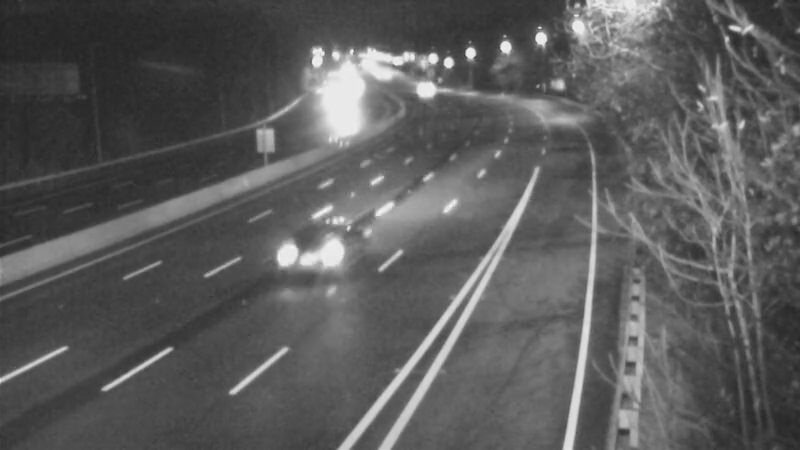vehicle: (251, 231, 331, 311), (401, 64, 451, 114)
